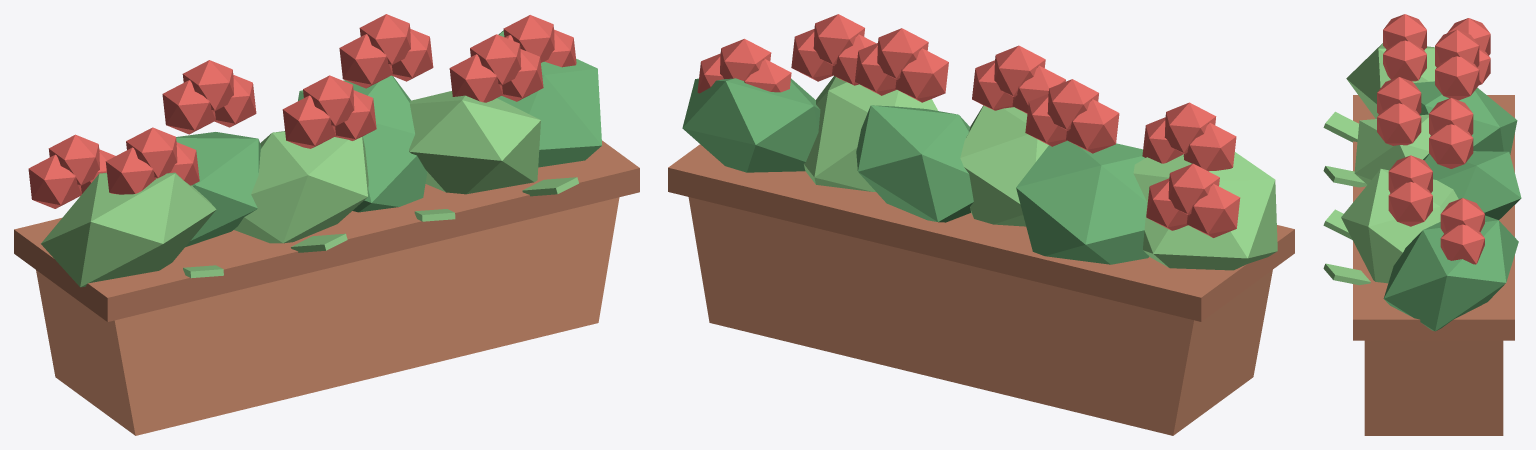
File: env_flowerpot_balcony_01.glb
3 renders of one model, left to right at view 1: azimuth 30°, elevation 25°; view 2: azimuth 150°, elevation 25°; view 3: azimuth 270°, elevation 25°, orthographic. The views are drawn at different scales.
Parts seen in each view (by area): view 1: env_flowerpot_balcony_01_body; view 2: env_flowerpot_balcony_01_body; view 3: env_flowerpot_balcony_01_body.
Part boxes in pixels (<box>): env_flowerpot_balcony_01_body: <box>14,14,639,435</box>; env_flowerpot_balcony_01_body: <box>668,14,1294,435</box>; env_flowerpot_balcony_01_body: <box>1323,14,1521,435</box>.
Bounding box in the file's own units: 0.9582 × 0.515 × 0.3426.
